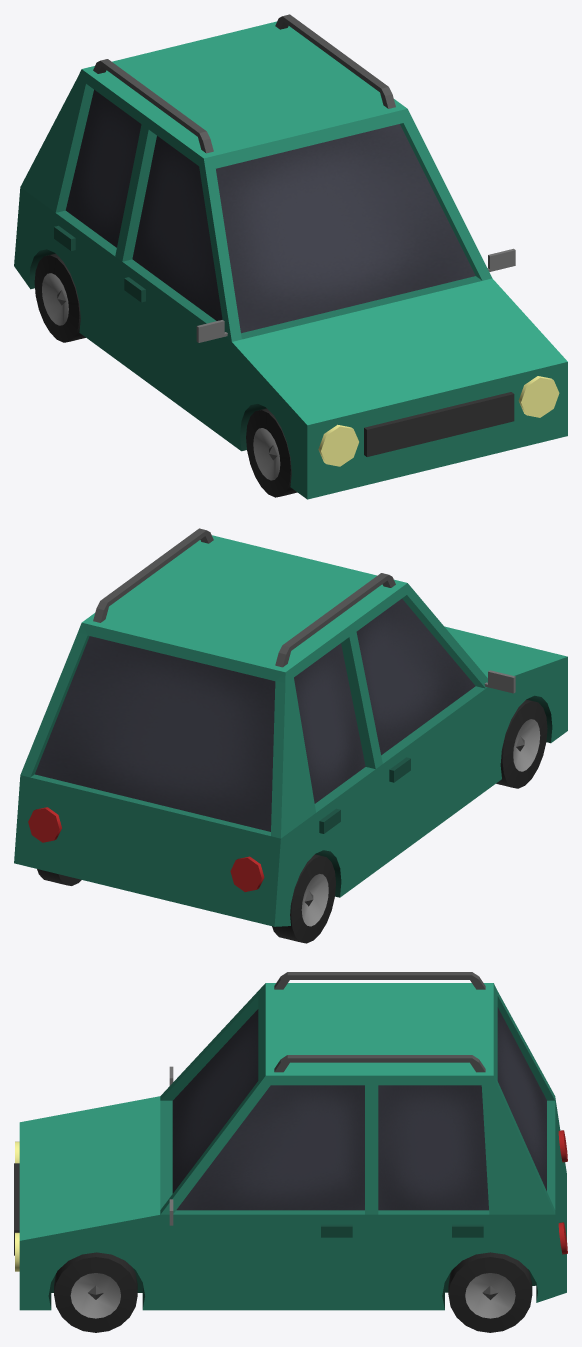
Rendered from Car_A4.fbx.
The picture shows the model from 3 angles, top to bottom: view 1: azimuth 30°, elevation 25°; view 2: azimuth 150°, elevation 25°; view 3: azimuth 270°, elevation 25°; orthographic projection. The views are drawn at different scales.
Visible parts, largest first — view 1: Car1_Body, Car1_RR, Car1_RF; view 2: Car1_Body, Car1_RR, Car1_RF; view 3: Car1_Body, Car1_LR, Car1_LF.
Boxes of the visible parts, bbox=[...] form: Car1_Body: bbox=[14, 14, 567, 499]; Car1_RR: bbox=[34, 253, 85, 342]; Car1_RF: bbox=[246, 408, 297, 497]; Car1_Body: bbox=[14, 528, 567, 926]; Car1_RR: bbox=[272, 854, 335, 943]; Car1_RF: bbox=[496, 699, 547, 788]; Car1_Body: bbox=[14, 972, 567, 1310]; Car1_LR: bbox=[448, 1252, 532, 1332]; Car1_LF: bbox=[54, 1252, 137, 1332].
Size of the model in its own units: 191 by 160 by 310.
1 material, 1 textured.
